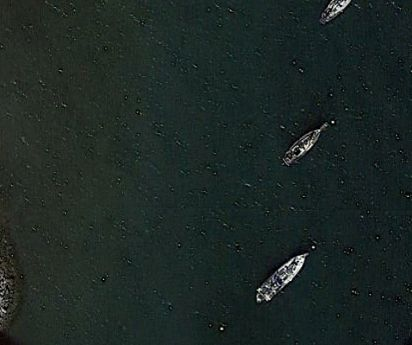boat: (253, 250, 313, 304), (282, 122, 328, 166), (318, 1, 356, 29)
